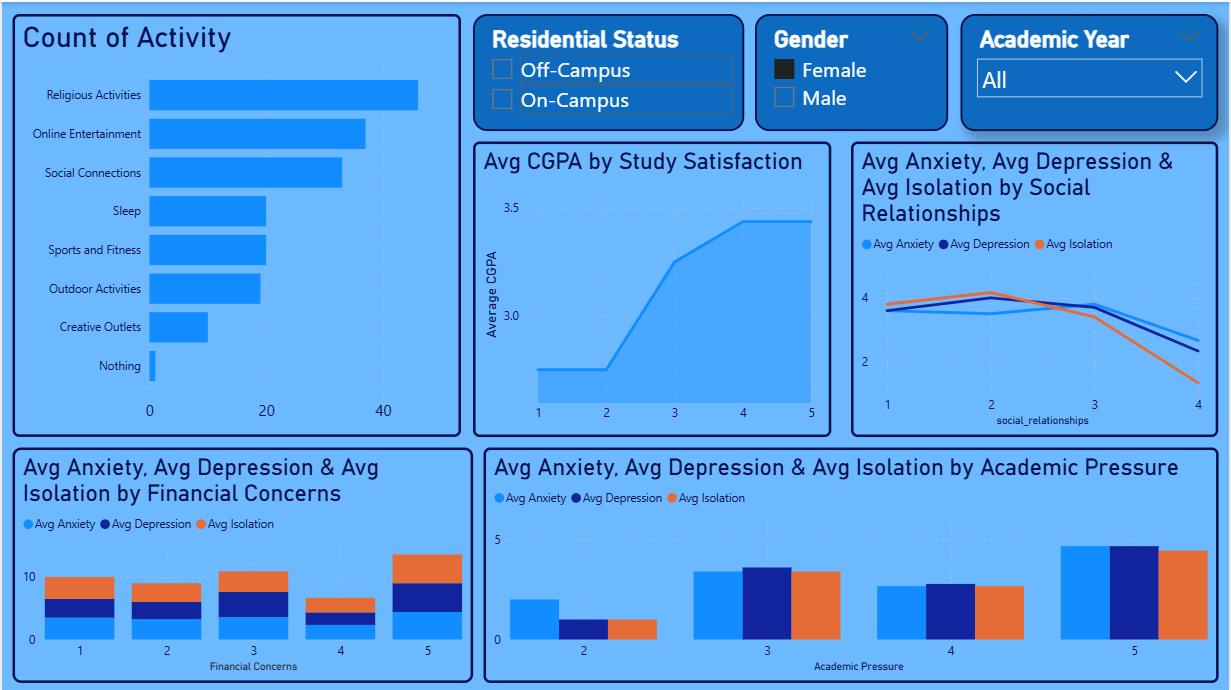

The page's visual inventory and layout, read from the dashboard file:
{"tool":"powerbi","page":{"name":"Page 2","canvas":[1280,720],"ordinal":1},"visuals":[{"type":"lineChart","title":"Avg Anxiety, Avg Depression & Avg Isolation by Social Relationships","fields":{"Category":["Mental Health Survey Analysis csv.social_relationships"],"Y":["Mental Health Survey Analysis csv.Avg Anxiety","Mental Health Survey Analysis csv.Avg Depression","Mental Health Survey Analysis csv.Avg Isolation"]},"box":[884.7,145.4,382.9,307.9],"z":0},{"type":"clusteredBarChart","title":"Count of Activity","fields":{"Category":["ActivityTable.Activity"],"Y":["CountNonNull(ActivityTable.ActivityList)"]},"box":[10.9,12.5,467.3,440.8],"z":1000},{"type":"columnChart","title":"Avg Anxiety, Avg Depression & Avg Isolation by Financial Concerns","fields":{"Category":["Mental Health Survey Analysis csv.financial_concerns"],"Y":["Mental Health Survey Analysis csv.Avg Anxiety","Mental Health Survey Analysis csv.Avg Depression","Mental Health Survey Analysis csv.Avg Isolation"]},"box":[10.9,464.2,479.8,245.4],"z":2000},{"type":"clusteredColumnChart","title":"Avg Anxiety, Avg Depression & Avg Isolation by Academic Pressure","fields":{"Category":["Mental Health Survey Analysis csv.academic_pressure"],"Y":["Mental Health Survey Analysis csv.Avg Anxiety","Mental Health Survey Analysis csv.Avg Depression","Mental Health Survey Analysis csv.Avg Isolation"]},"box":[501.7,464.2,765.9,245.4],"z":3000},{"type":"areaChart","title":"Avg CGPA by Study Satisfaction","fields":{"Category":["Mental Health Survey Analysis csv.study_satisfaction"],"Y":["Mental Health Survey Analysis csv.Average CGPA"]},"box":[490.8,145.4,373.6,307.9],"z":4000},{"type":"slicer","fields":{"Values":["Mental Health Survey Analysis csv.residential_status"]},"box":[490.8,12.5,282.9,121.9],"z":5000},{"type":"slicer","fields":{"Values":["Mental Health Survey Analysis csv.gender"]},"box":[784.6,12.5,201.6,121.9],"z":6000},{"type":"slicer","fields":{"Values":["Mental Health Survey Analysis csv.academic_year"]},"box":[998.7,12.5,268.8,121.9],"z":7000}]}

Visuals, with their boxes in screenshot pixels (x1, y1, x2, y2), scaled from the page's 1280x720 canvas onto the 1231x690 screenshot:
"Avg Anxiety, Avg Depression & Avg Isolation by Social Relationships" lineChart: <bbox>851, 139, 1219, 434</bbox>
"Count of Activity" clusteredBarChart: <bbox>10, 12, 460, 434</bbox>
"Avg Anxiety, Avg Depression & Avg Isolation by Financial Concerns" columnChart: <bbox>10, 445, 472, 680</bbox>
"Avg Anxiety, Avg Depression & Avg Isolation by Academic Pressure" clusteredColumnChart: <bbox>482, 445, 1219, 680</bbox>
"Avg CGPA by Study Satisfaction" areaChart: <bbox>472, 139, 831, 434</bbox>
slicer - Mental Health Survey Analysis csv.residential_status: <bbox>472, 12, 744, 129</bbox>
slicer - Mental Health Survey Analysis csv.gender: <bbox>755, 12, 948, 129</bbox>
slicer - Mental Health Survey Analysis csv.academic_year: <bbox>960, 12, 1219, 129</bbox>
